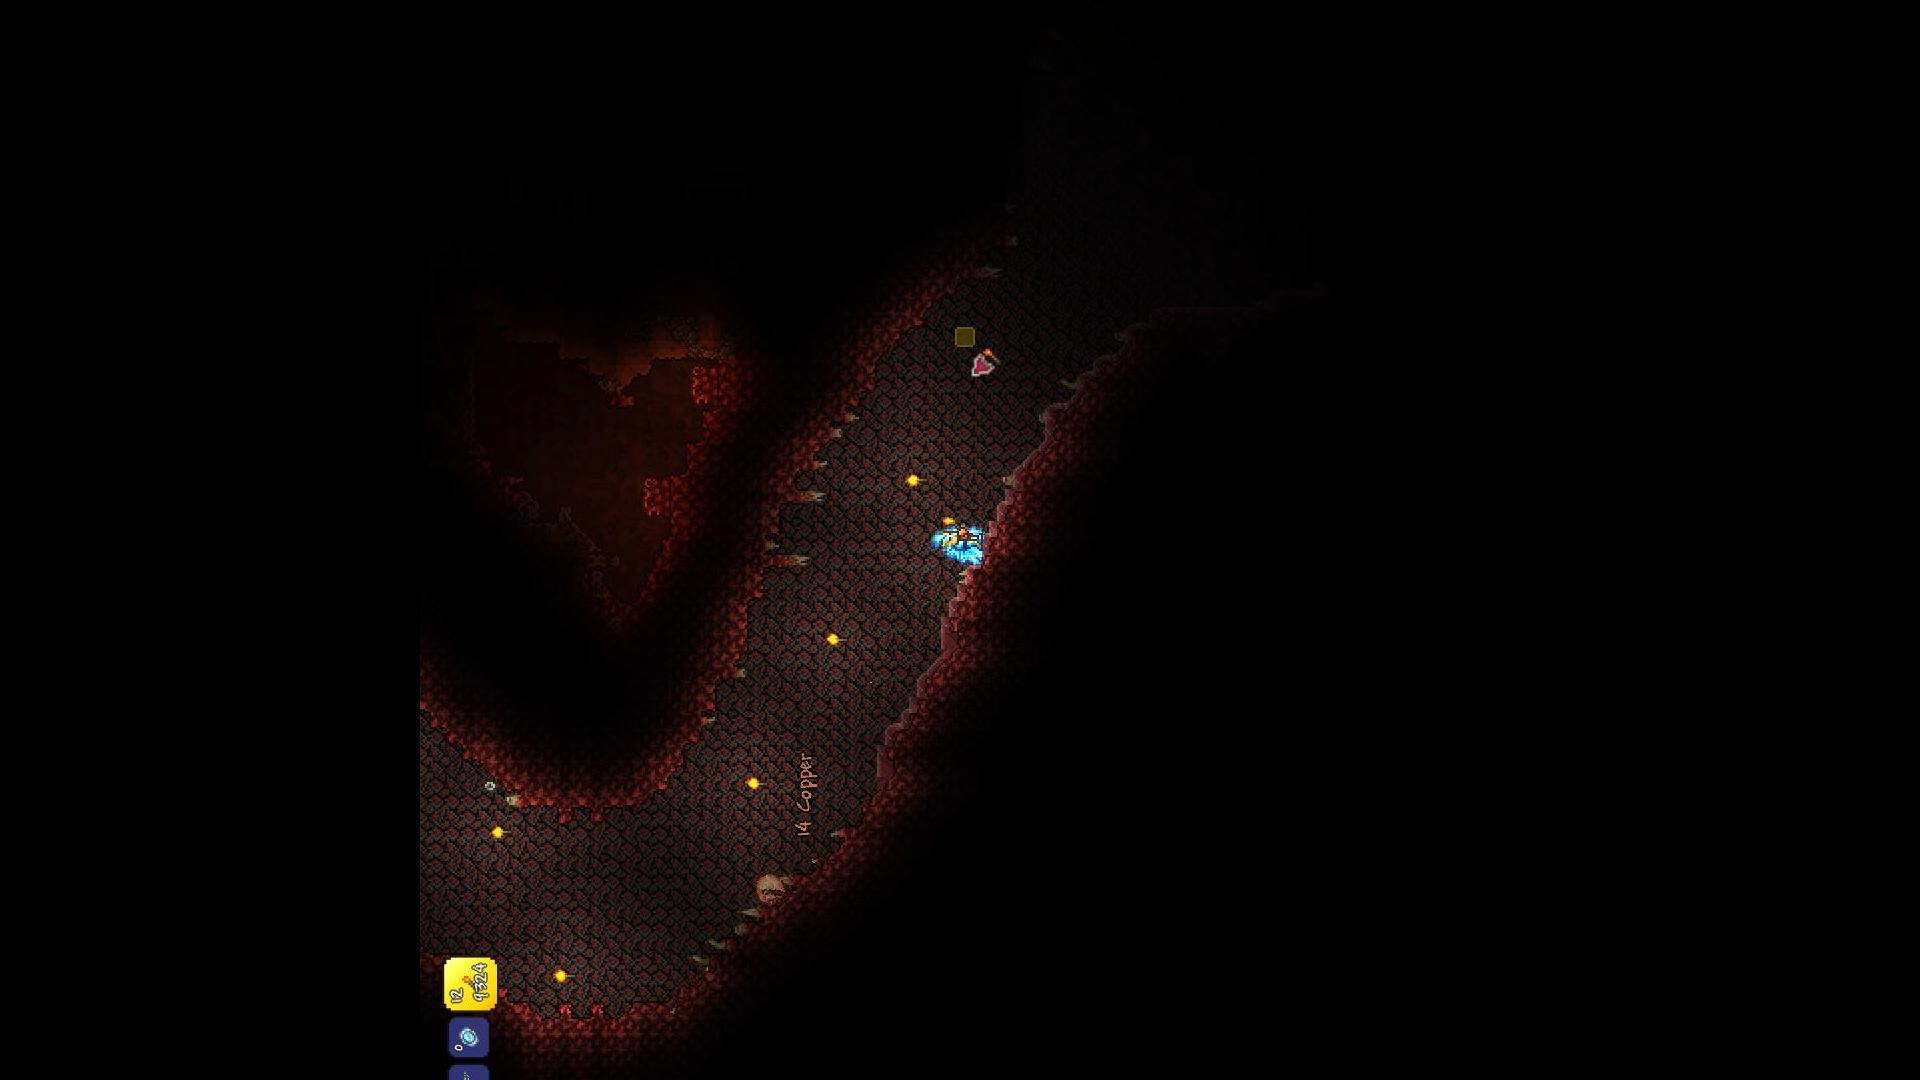altar: (680, 363, 720, 406), (636, 473, 674, 518)
